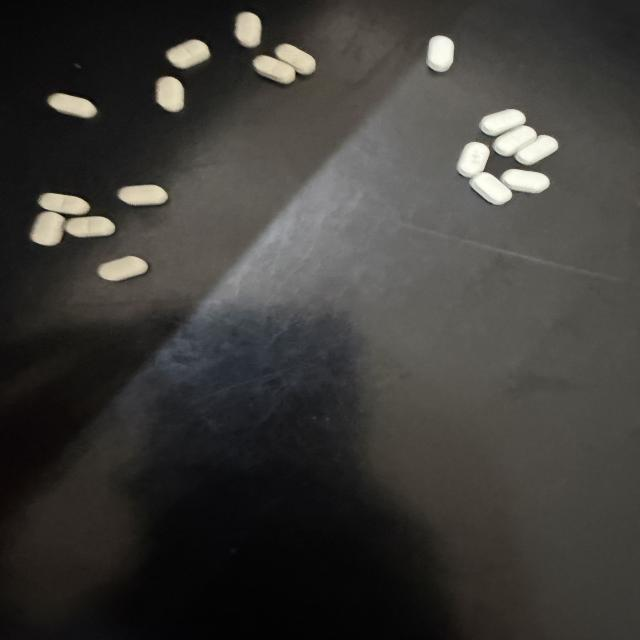pill: (470, 173, 512, 205), (493, 126, 536, 156), (516, 135, 558, 165), (47, 93, 97, 118), (98, 256, 148, 281), (275, 44, 315, 75), (166, 40, 210, 68), (30, 211, 65, 246), (253, 55, 295, 84), (480, 109, 525, 136), (457, 142, 490, 177), (501, 169, 549, 193), (38, 193, 89, 215), (65, 216, 115, 237), (118, 185, 168, 205), (156, 77, 184, 112), (427, 36, 454, 72), (235, 12, 261, 48)
